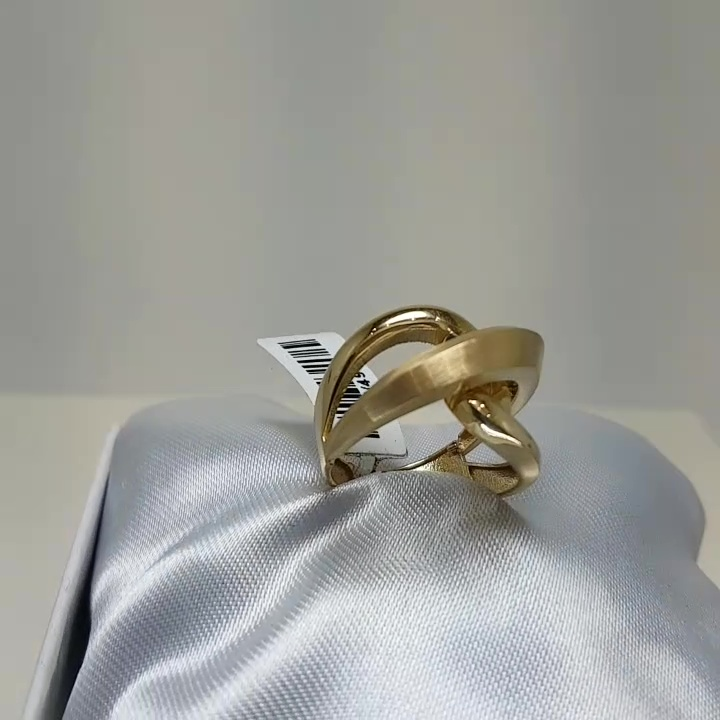Ring 3: (314, 286, 568, 546)
